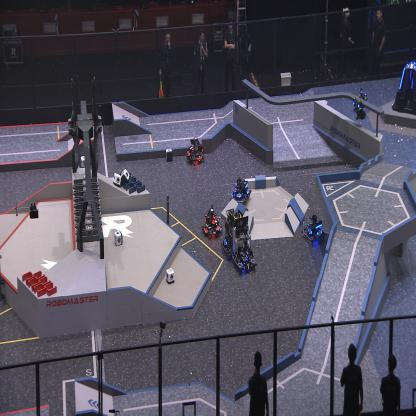car: (231, 214, 257, 274), (221, 208, 243, 259), (302, 212, 326, 246), (200, 207, 223, 238), (231, 177, 252, 206), (185, 136, 205, 164)
